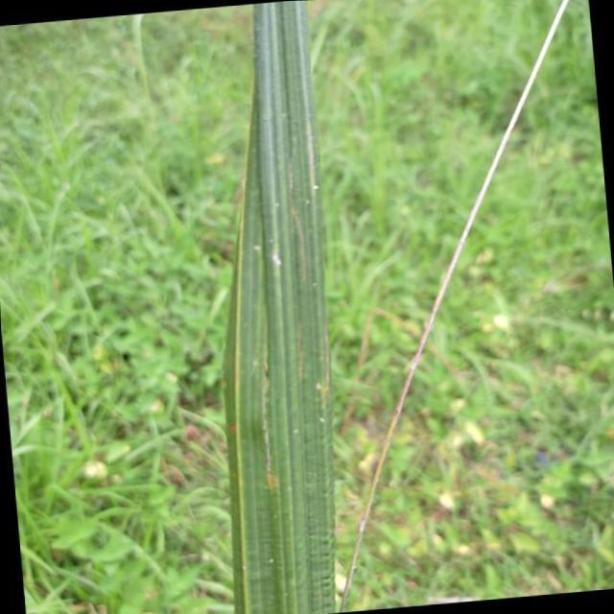Boron: (226, 0, 334, 614)
